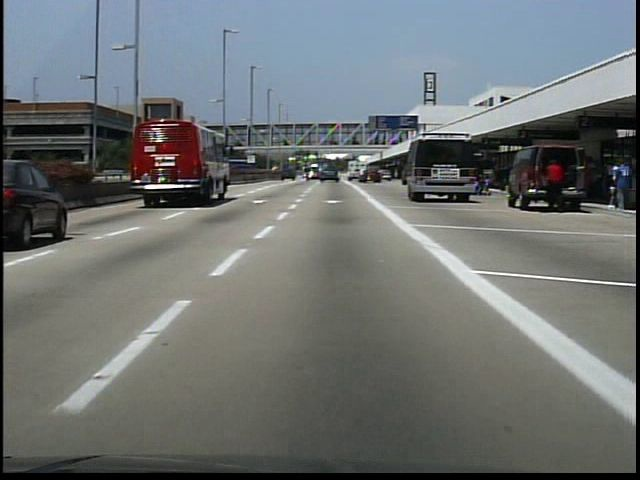person: (545, 155, 567, 213)
